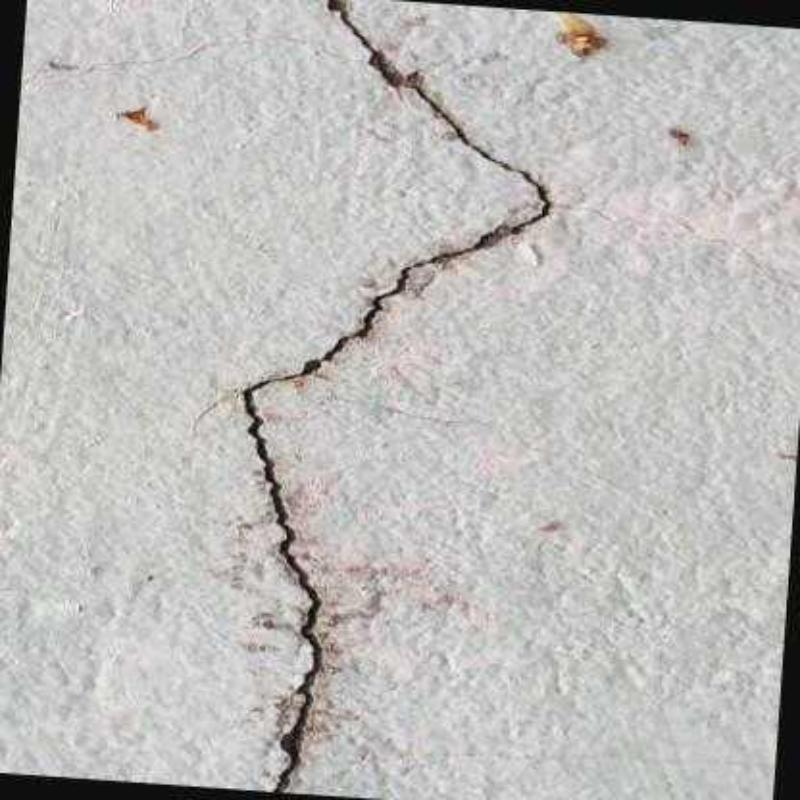pothole: (239, 0, 553, 793)
